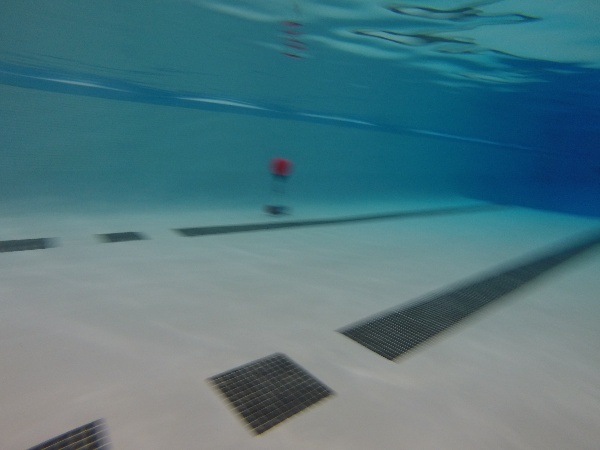buoy_red: (269, 157, 293, 182)
